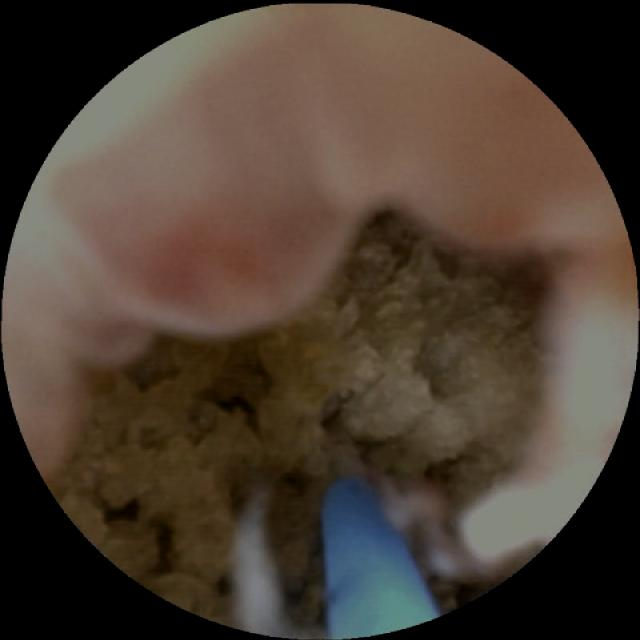fiber: (324, 482, 435, 628)
stone: (59, 215, 556, 629)
tissue: (10, 13, 619, 566)
